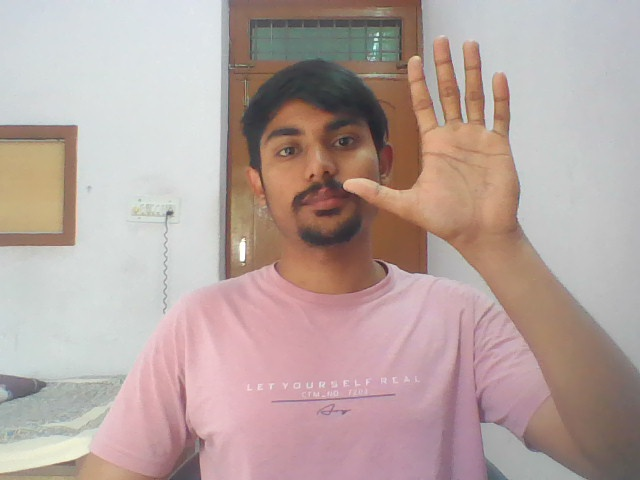Hello: (340, 27, 539, 235)
